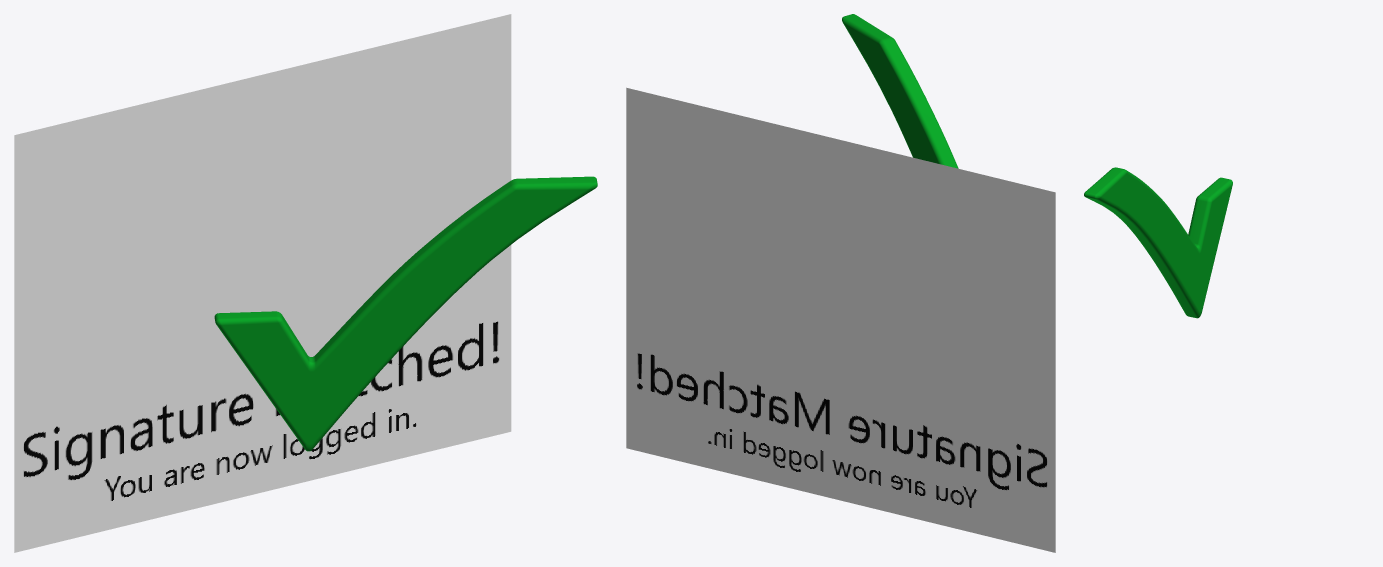
Rendered from successful-logged.glb.
The picture shows the model from 3 angles, left to right: view 1: azimuth 30°, elevation 25°; view 2: azimuth 150°, elevation 25°; view 3: azimuth 270°, elevation 25°; orthographic projection. The views are drawn at different scales.
Parts seen in each view (by area): view 1: mesh_id1, node_id30; view 2: mesh_id1, node_id30; view 3: node_id30.
Boxes of the visible parts, x1,y1,x2,y2 form: mesh_id1: (14,14,511,552); node_id30: (214,176,597,451); mesh_id1: (626,87,1055,552); node_id30: (842,14,958,168); node_id30: (1084,167,1232,318).
Bounding box in the file's own units: 0.64 × 0.514 × 0.3893.
Materials: 2 (2 with a texture image).
